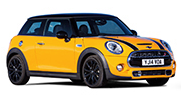car: (2, 10, 177, 92)
